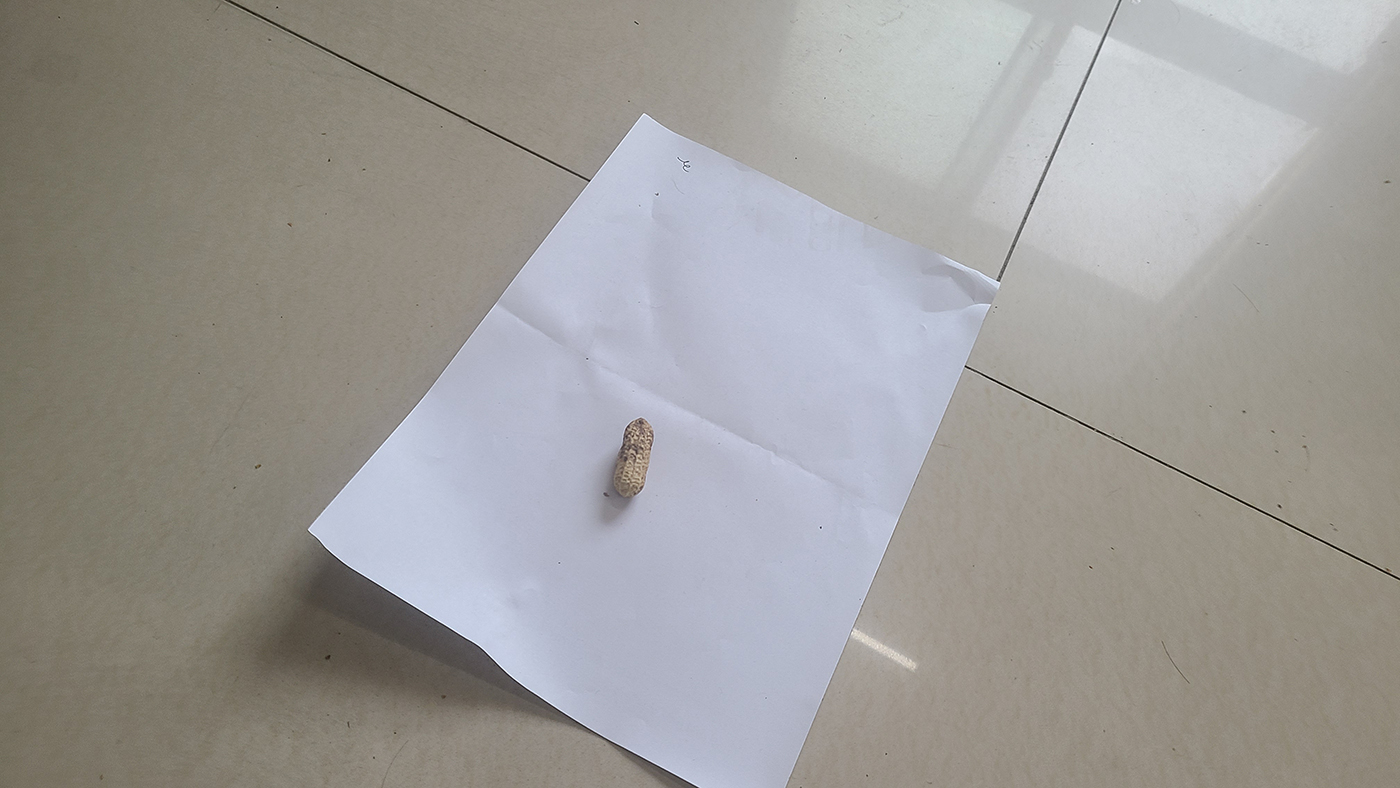h: (612, 417, 654, 498)
